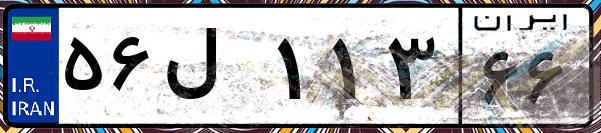1: (270, 28, 330, 110), (330, 28, 385, 110)
3: (385, 28, 445, 110)
5: (57, 26, 110, 100)
6: (475, 38, 525, 113), (525, 38, 570, 115), (110, 28, 158, 98)
ل: (158, 20, 270, 120)
